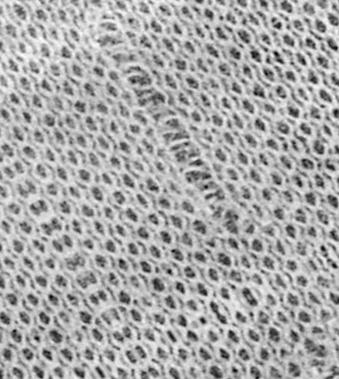slub: (93, 12, 244, 246)
